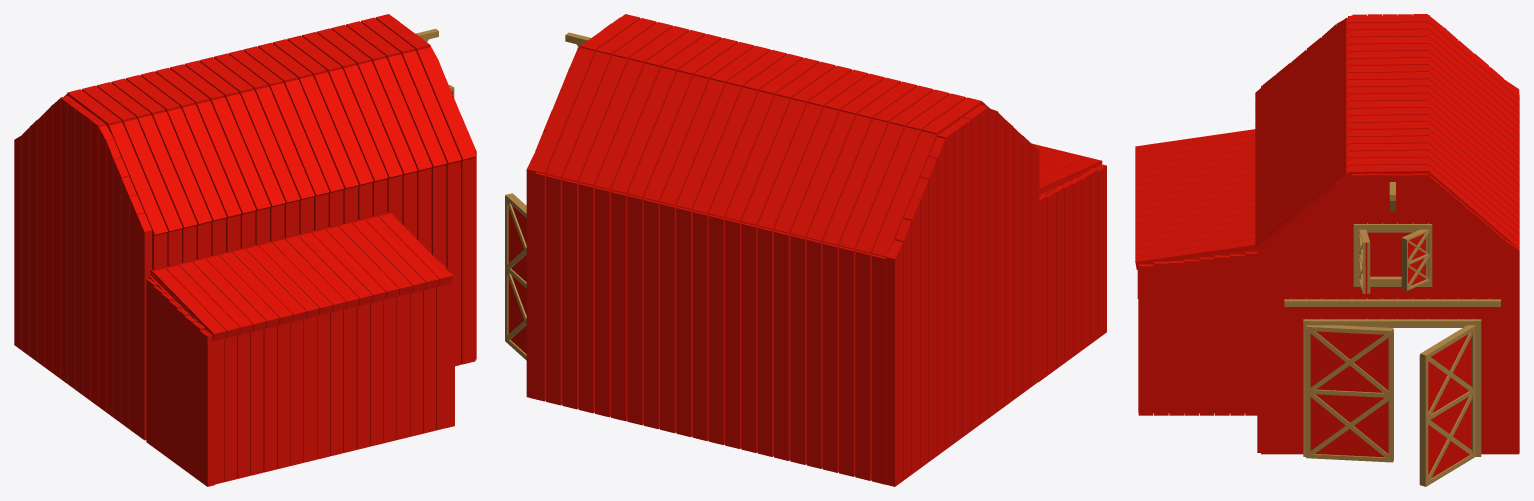
The model's file is сарай1.fbx.
3 renders of one model, left to right at view 1: azimuth 30°, elevation 25°; view 2: azimuth 150°, elevation 25°; view 3: azimuth 270°, elevation 25°, orthographic. The views are drawn at different scales.
Visible parts, largest first — view 1: Cube.013, Cube.018, Cube.015, Cube.014, Cube.012, Cube.017, Cube.021, Cube.020, Cube.019; view 2: Cube, Cube.016, Cube.018, Cube.017, Cube.021, Cube.046, Cube.014, Cube.019; view 3: Cube.019, Cube.020, Cube.013, Cube.014, Cube.016, Cube.017, Cube.027, Cube.046, Cube.024, Cube.002, Cube.022, Cube.025 (+17 smaller).
Boxes of the visible parts, x1,y1,x2,y2 form: Cube.013: (107, 47, 476, 235); Cube.018: (14, 96, 151, 440); Cube.015: (207, 284, 449, 484); Cube.014: (150, 212, 452, 341); Cube.012: (152, 158, 475, 366); Cube.017: (67, 14, 429, 126); Cube.021: (146, 278, 215, 486); Cube.020: (416, 238, 454, 427); Cube.019: (393, 17, 476, 359); Cube: (529, 172, 886, 484); Cube.016: (530, 47, 937, 257); Cube.018: (886, 105, 1039, 486); Cube.017: (580, 14, 982, 135); Cube.021: (1039, 164, 1106, 381); Cube.046: (508, 206, 526, 353); Cube.014: (1032, 143, 1102, 191); Cube.019: (526, 17, 620, 397); Cube.019: (1261, 173, 1519, 454); Cube.020: (1138, 252, 1257, 415); Cube.013: (1255, 17, 1348, 253); Cube.014: (1135, 129, 1255, 269); Cube.016: (1428, 16, 1519, 248); Cube.017: (1348, 15, 1429, 178); Cube.027: (1306, 326, 1393, 457); Cube.046: (1421, 334, 1471, 478); Cube.024: (1303, 318, 1481, 456); Cube.002: (1275, 178, 1504, 454); Cube.022: (1284, 298, 1500, 306); Cube.025: (1353, 222, 1432, 286).
Bounding box in the file's own units: 2784 × 1904 × 2338.
